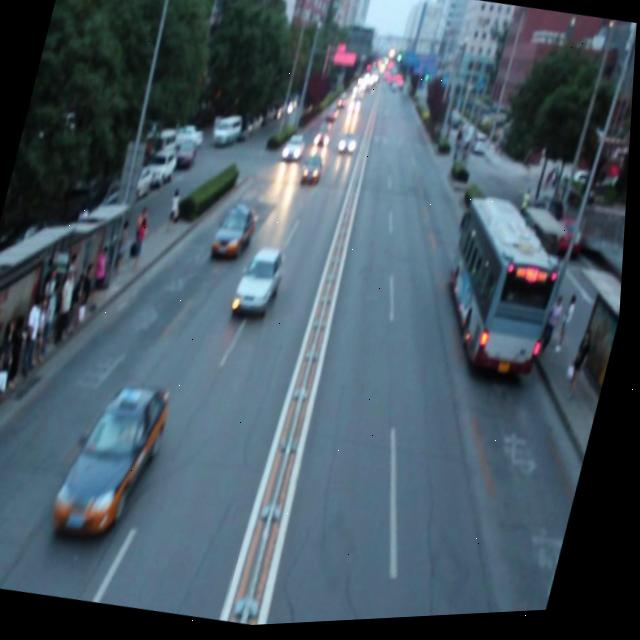car: (60, 375, 178, 551), (235, 241, 292, 330), (213, 199, 262, 270), (281, 134, 308, 171), (301, 154, 327, 191)
van: (430, 193, 577, 391)
